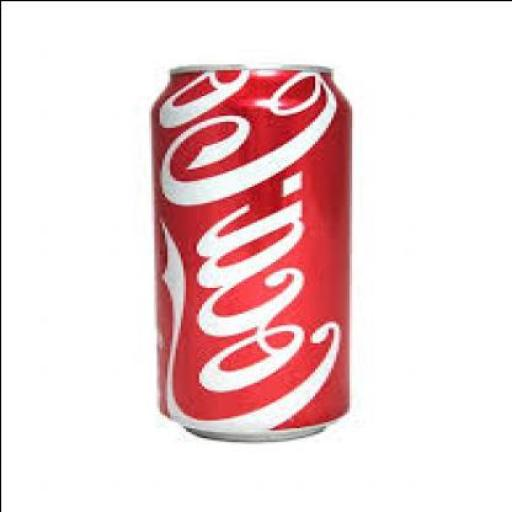metal: (156, 63, 351, 437)
